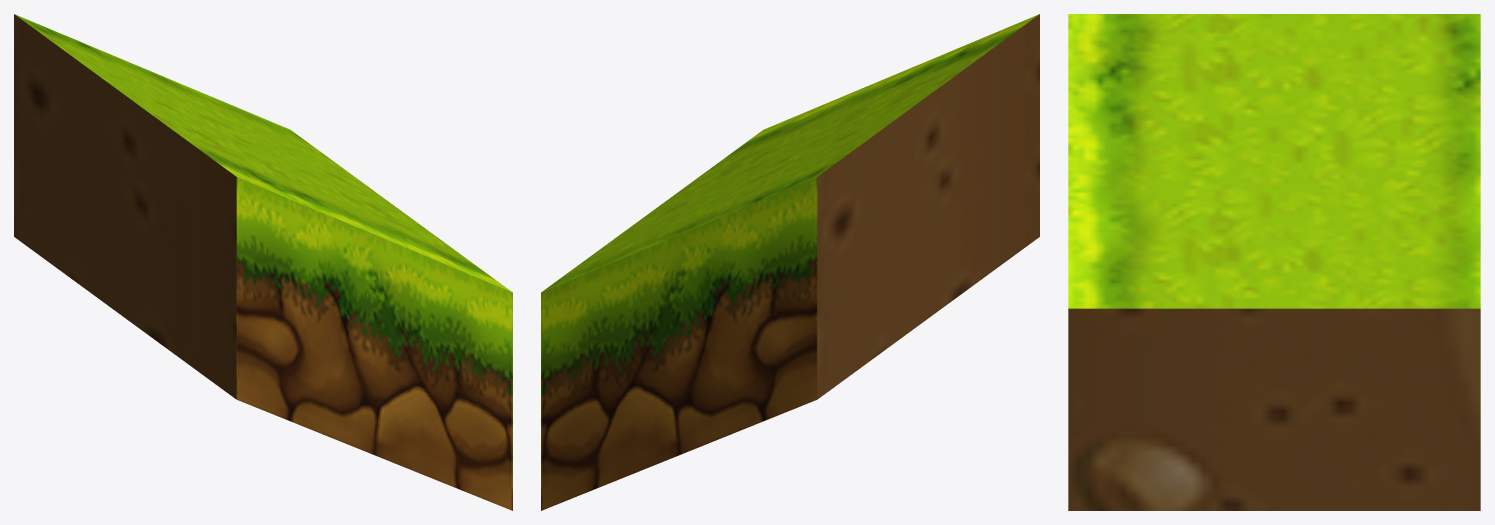
The model's file is Road_0.fbx.
The picture shows the model from 3 angles, left to right: view 1: azimuth 30°, elevation 25°; view 2: azimuth 150°, elevation 25°; view 3: azimuth 270°, elevation 25°; orthographic projection. The views are drawn at different scales.
Parts seen in each view (by area): view 1: Road_0; view 2: Road_0; view 3: Road_0.
Part boxes in pixels (x1,y1,x2,y2): Road_0: (14, 14, 512, 510); Road_0: (541, 14, 1039, 510); Road_0: (1068, 14, 1480, 510).
Bounding box in the file's own units: 3.06 × 4.25 × 4.27.
1 material, 1 textured.
